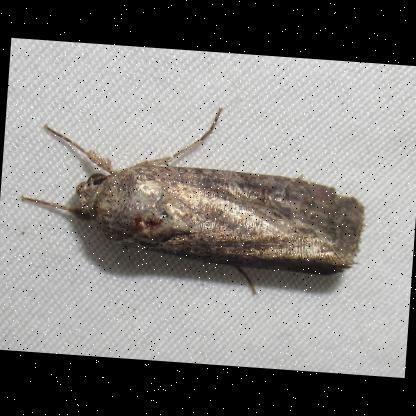Fall Armyworm Moth: (13, 92, 376, 306)
